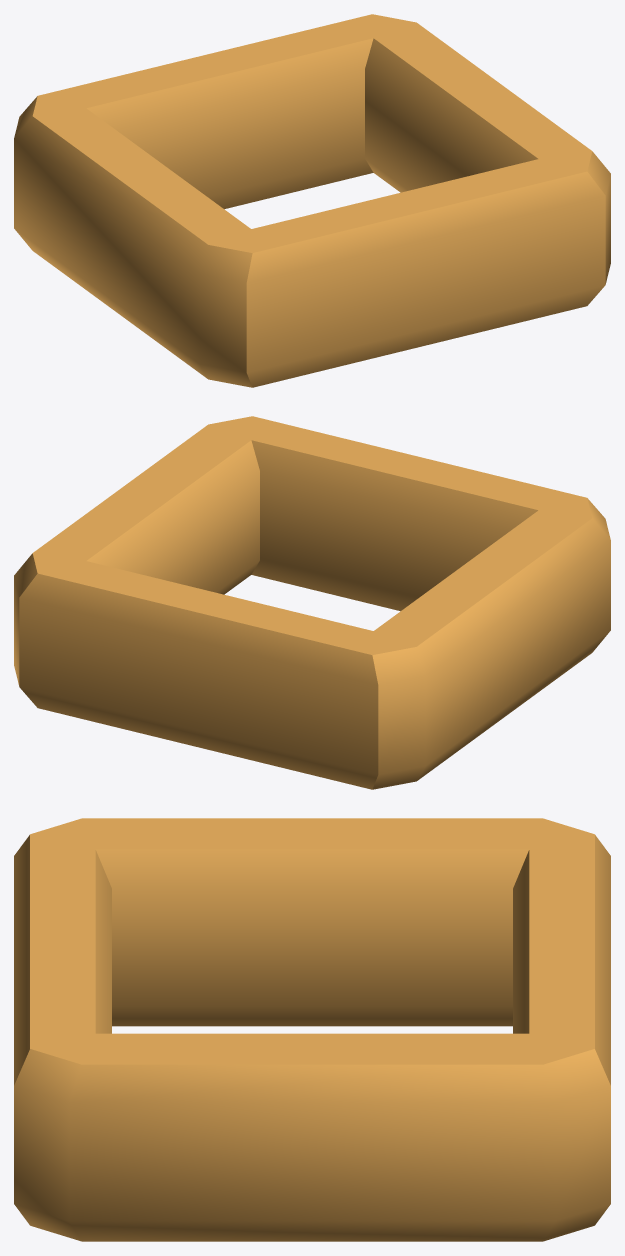
The model's file is Square_02.fbx.
3 views of the same model, one above another, from view 1: azimuth 30°, elevation 25°; view 2: azimuth 150°, elevation 25°; view 3: azimuth 270°, elevation 25° (orthographic). The views are drawn at different scales.
Parts seen in each view (by area): view 1: Square_02; view 2: Square_02; view 3: Square_02.
Boxes of the visible parts, x1,y1,x2,y2 form: Square_02: [14, 14, 610, 387]; Square_02: [14, 416, 610, 789]; Square_02: [14, 818, 610, 1241].
Size of the model in its own units: 320 by 100 by 306.
